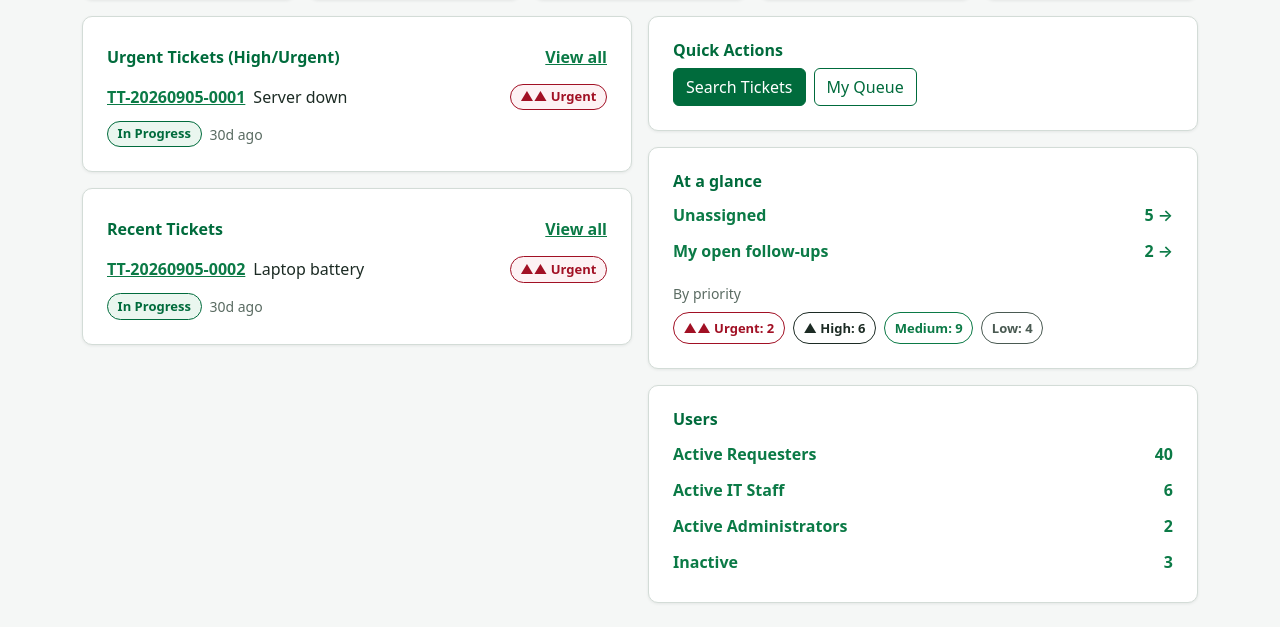
Test: Staff Dashboard — Admin variant (AC-29) › drills an admin Users card entry into User Management filtered by role
(page scrolled)
Click the button "Active IT Staff 6" at (729, 490), box [673,474,1173,506]
(page scrolled)
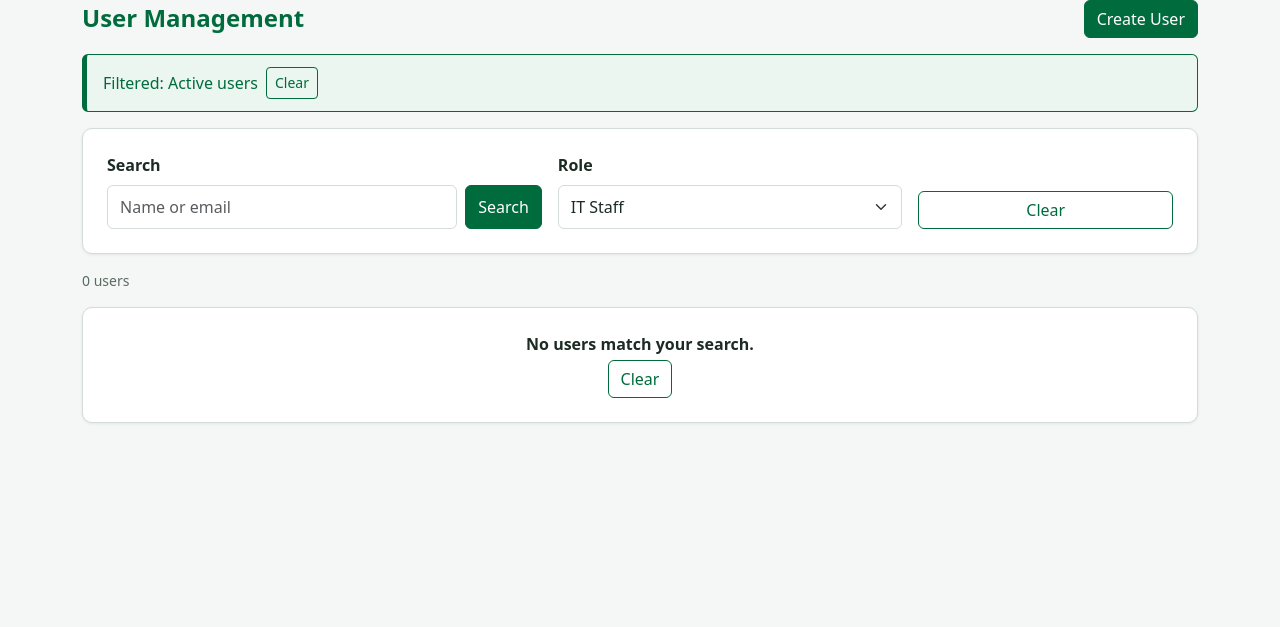
Expected: the heading "User Management" is shown, [82,4,304,33]
